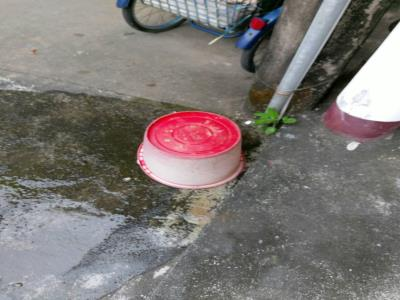bucket: (133, 109, 251, 192)
